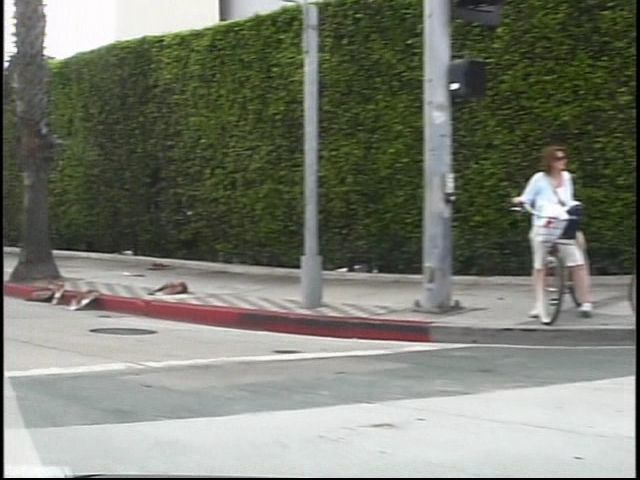person: (505, 149, 574, 323)
